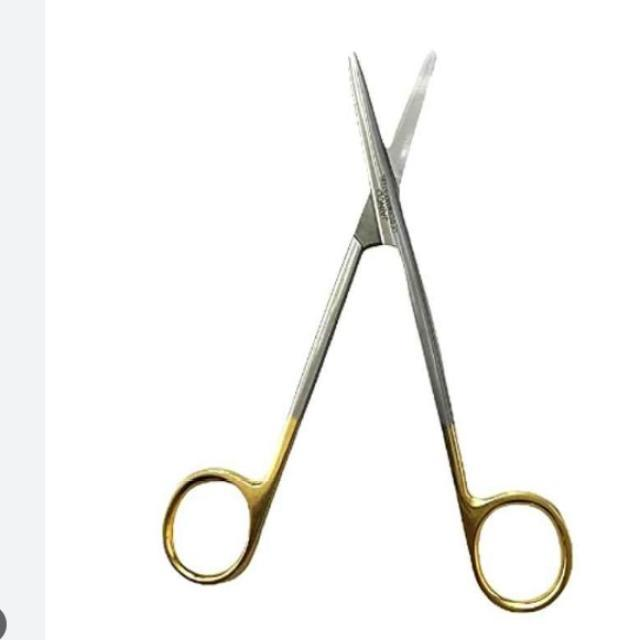Metzenbaum Sciccors: (158, 42, 582, 618)
